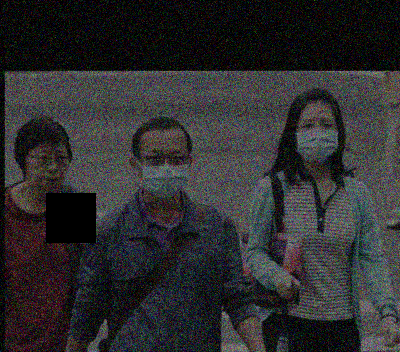with_mask: (138, 147, 192, 198), (294, 113, 339, 163)
without_mask: (25, 148, 69, 189)
